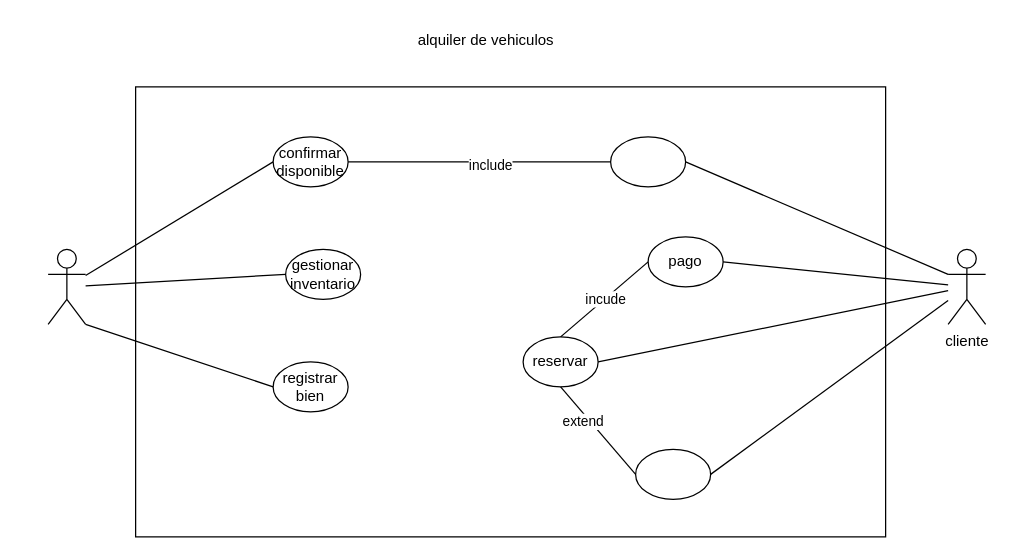
The diagram is 1010 pixels wide and 559 high, and some of its shapes have lost their labels. The centre of each missing label's shape, as x and y in pixels:
administrador: the point at 66,286
buscar disponible: the point at 647,161
cancelar reserva: the point at 672,473
